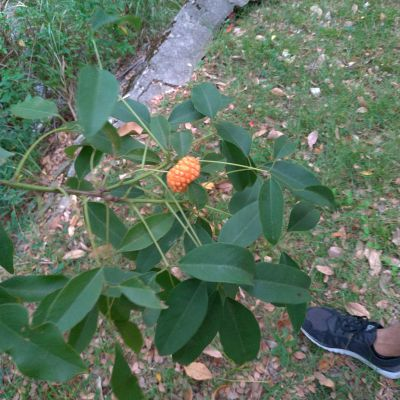eggs: (159, 154, 205, 193)
